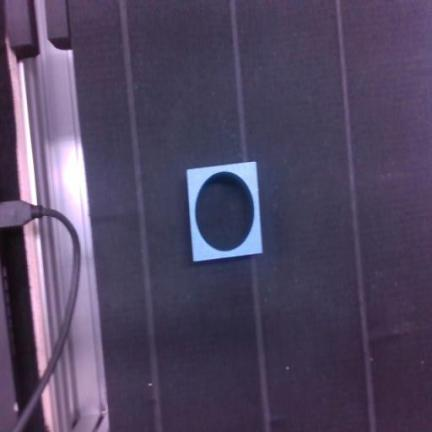square: (196, 173, 254, 251)
